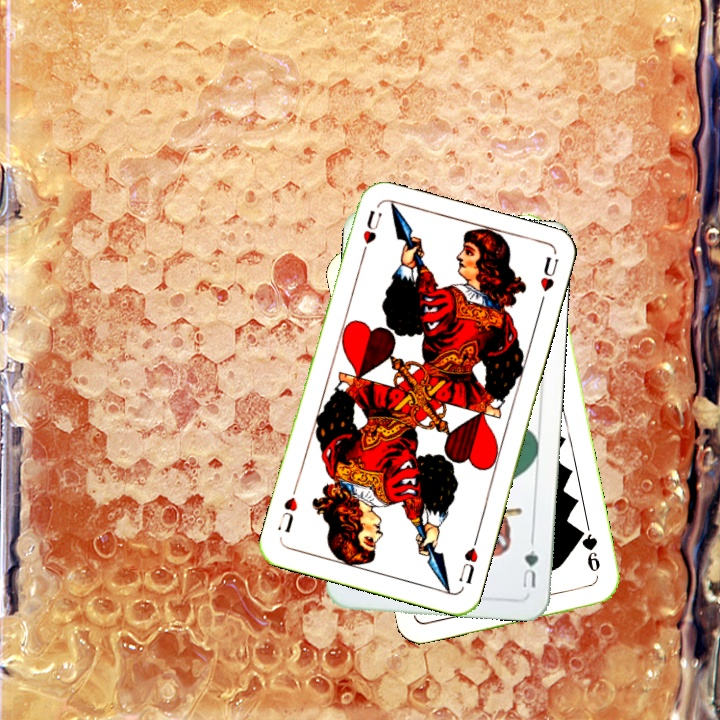G9: (574, 524, 603, 575)
GU: (517, 536, 541, 592)
HU: (356, 206, 384, 262), (455, 533, 481, 587)
